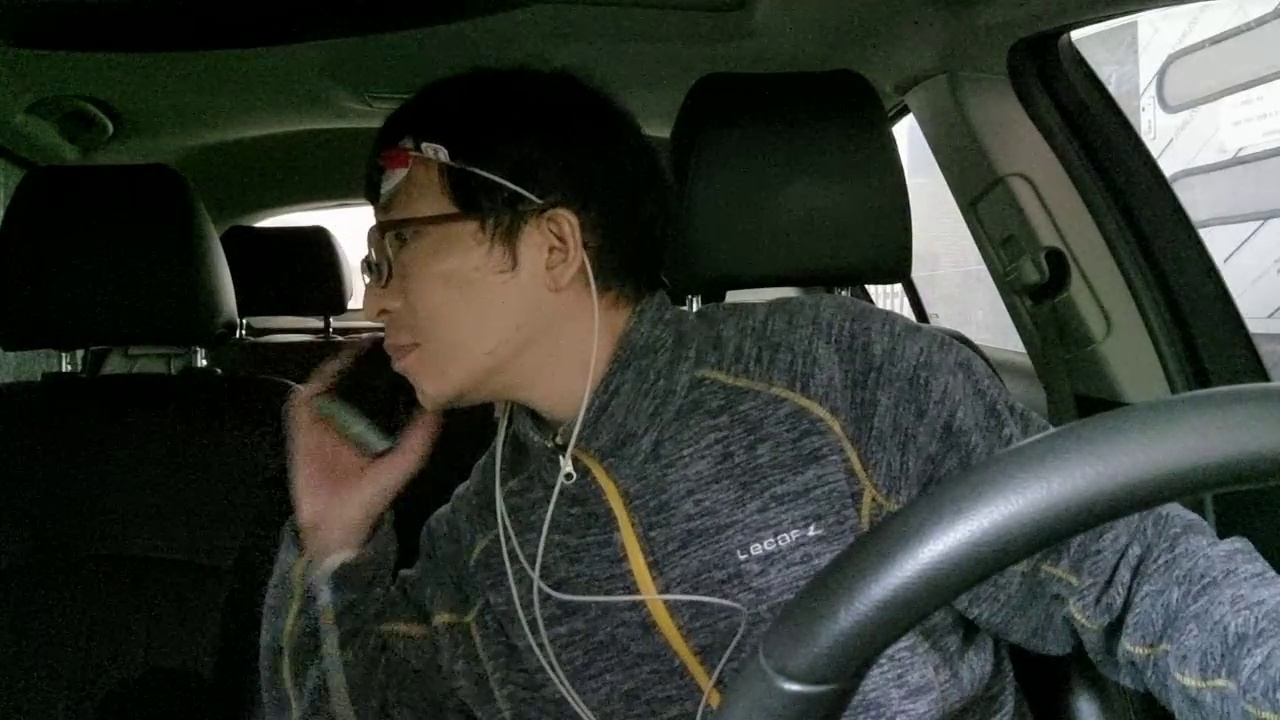phone: (282, 315, 456, 499)
